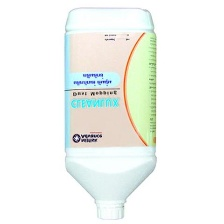cleaning_solution: (61, 5, 159, 221)
